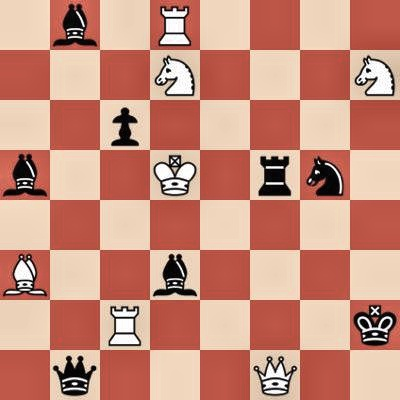black-bishop: (50, 0, 100, 50), (0, 150, 50, 200), (150, 250, 200, 300)
black-king: (350, 300, 400, 350)
black-knight: (300, 150, 350, 200)
black-pawn: (100, 100, 150, 150)
black-queen: (50, 350, 100, 400)
black-rook: (250, 150, 300, 200)
white-bishop: (0, 250, 50, 300)
white-king: (150, 150, 200, 200)
white-knight: (150, 50, 200, 100), (350, 50, 400, 100)
white-queen: (250, 350, 300, 400)
white-rook: (150, 0, 200, 50), (100, 300, 150, 350)
